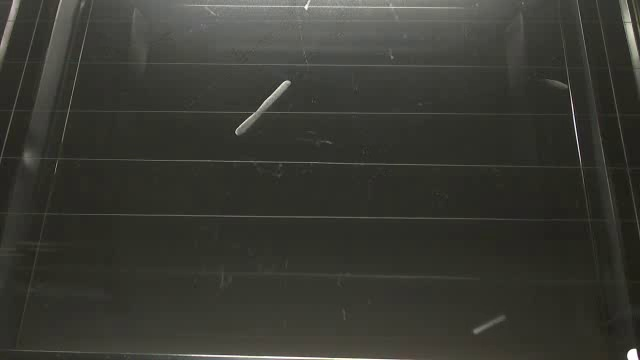Alfa: (233, 78, 295, 140), (470, 312, 507, 336)
